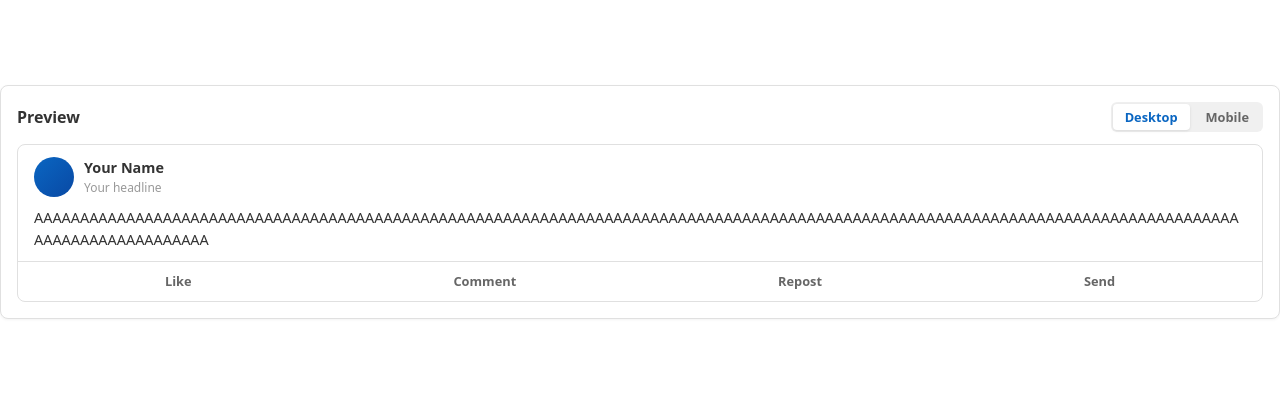
Test: PostPreview › truncates at shorter threshold on mobile
The width and height of the screenshot is (1280, 405).
Check: the text "...see more" is not shown
// Switch to mobile
Click the button "Mobile": point(1227, 117) [1194, 104, 1261, 130]
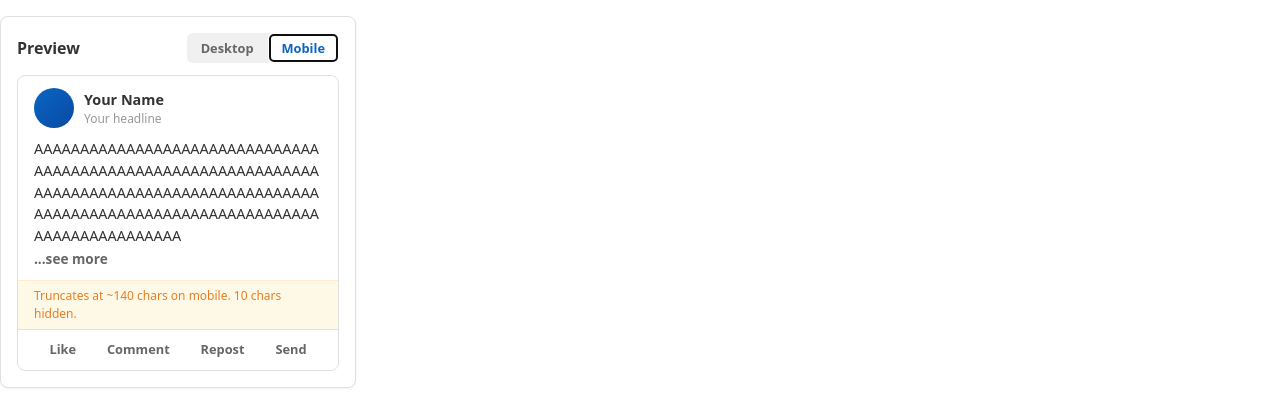
Check: the button "...see more" is shown, box [34, 249, 108, 268]
